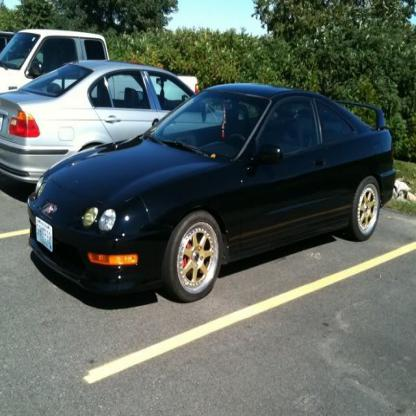Vehicle: (27, 83, 398, 306)
